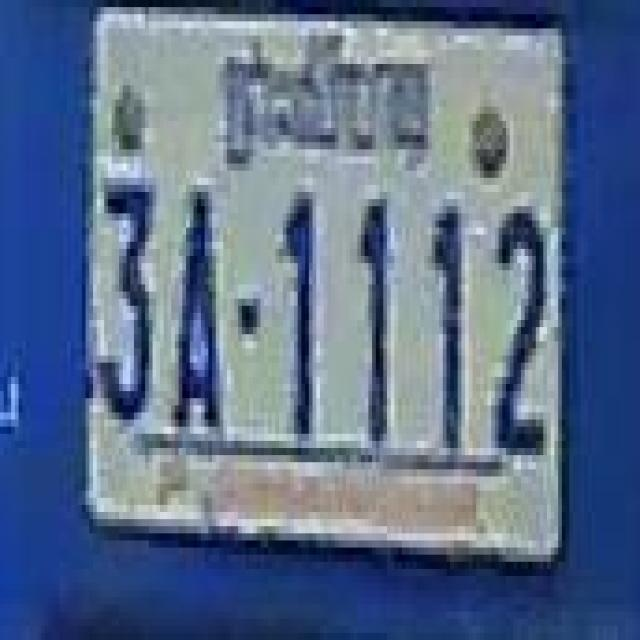Preah_Sihanouk: (220, 28, 432, 170)
